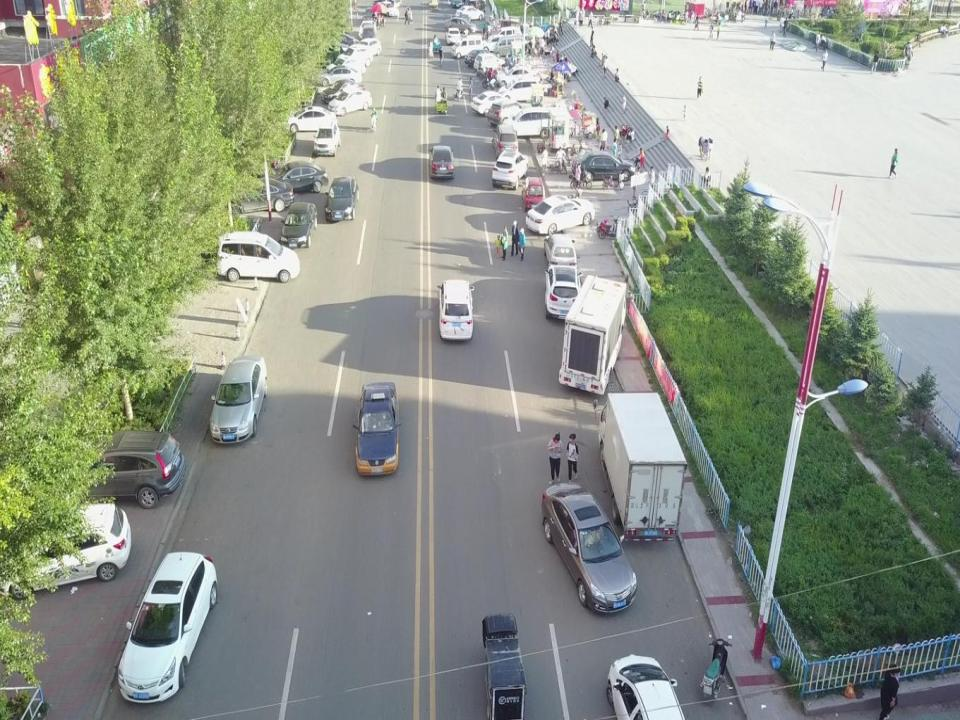car: (117, 551, 218, 703), (540, 481, 637, 615), (9, 502, 132, 600), (57, 429, 186, 509), (606, 653, 685, 720), (209, 356, 267, 444), (352, 381, 402, 475), (216, 231, 300, 283), (524, 195, 596, 237), (551, 204, 622, 246), (223, 177, 295, 216), (256, 160, 329, 193), (436, 278, 474, 341), (544, 264, 583, 320), (502, 106, 565, 140), (572, 150, 636, 182), (280, 202, 317, 248), (324, 175, 359, 221), (284, 105, 337, 134), (491, 150, 528, 190), (471, 90, 519, 117), (498, 75, 544, 103), (487, 100, 534, 127), (328, 88, 373, 116), (320, 78, 366, 105), (544, 233, 578, 268), (496, 65, 542, 88), (313, 120, 341, 157), (315, 65, 362, 87), (336, 43, 373, 67), (428, 145, 454, 179), (522, 176, 546, 211), (464, 48, 500, 68), (443, 16, 478, 36), (326, 57, 366, 74), (473, 52, 507, 72), (487, 26, 522, 44), (353, 38, 382, 57), (455, 4, 484, 22), (375, 0, 401, 17), (358, 18, 377, 38), (444, 26, 462, 44), (362, 4, 380, 20), (362, 22, 376, 42)
truck: (593, 392, 687, 543), (558, 274, 626, 396), (450, 35, 484, 58)
van: (491, 123, 519, 161), (493, 36, 526, 57)
